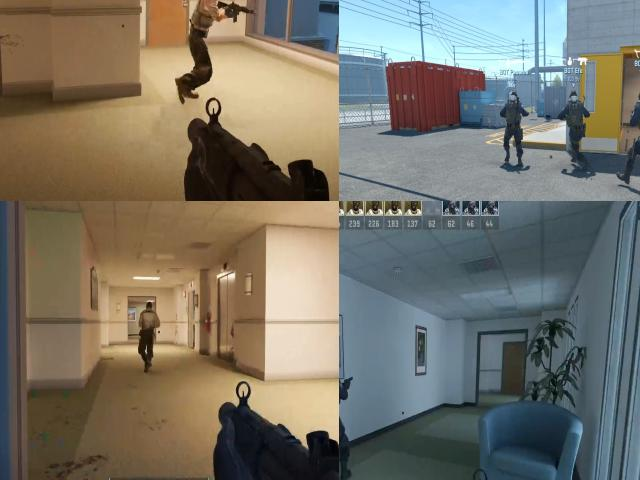CT: (560, 88, 590, 170), (504, 92, 524, 166), (339, 338, 350, 444), (632, 83, 640, 183)
CT-Head: (339, 347, 347, 380), (569, 90, 579, 103), (509, 91, 519, 103), (636, 83, 640, 101)
T: (186, 0, 228, 52), (140, 300, 160, 340)
T-Head: (144, 297, 156, 320)
